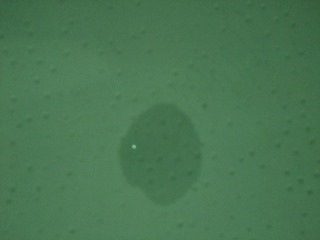Water_detected: (126, 107, 191, 195)
